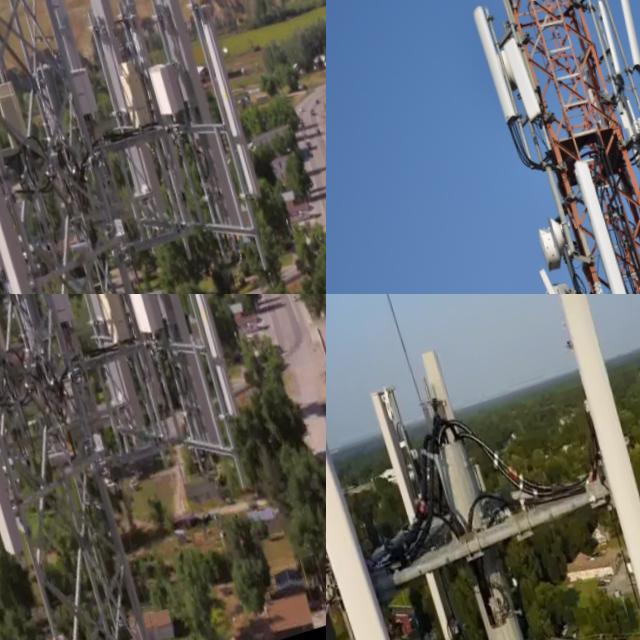GSM Antenna: (360, 367, 468, 640), (141, 0, 249, 262), (71, 0, 178, 259), (557, 294, 640, 617), (123, 294, 233, 473), (185, 0, 270, 217), (46, 294, 154, 462), (0, 9, 43, 294), (326, 451, 389, 640), (14, 294, 101, 419), (171, 294, 241, 437), (565, 155, 634, 294), (43, 0, 106, 148), (0, 294, 27, 575), (466, 2, 517, 127), (406, 338, 461, 441), (0, 65, 41, 187), (498, 42, 542, 129), (602, 0, 640, 78), (590, 3, 624, 89)
Microwave Antenna: (525, 226, 562, 280), (540, 214, 572, 258), (621, 104, 640, 162)
